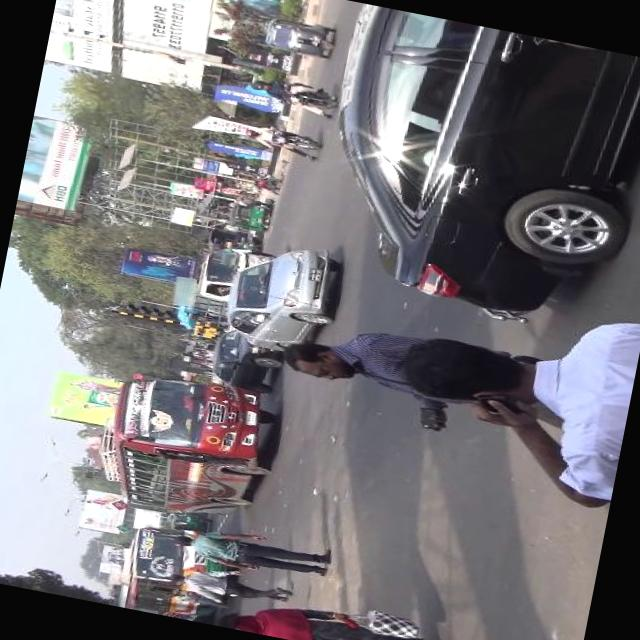bus: (96, 363, 288, 526), (118, 520, 238, 620), (112, 582, 204, 622)
car: (301, 0, 640, 341), (215, 232, 344, 356), (203, 324, 294, 396), (204, 224, 268, 254)
motorcycle: (260, 9, 340, 64), (271, 78, 341, 119), (266, 124, 324, 157), (167, 505, 216, 532), (230, 200, 270, 230), (252, 169, 284, 194)
truck: (196, 241, 276, 321)
